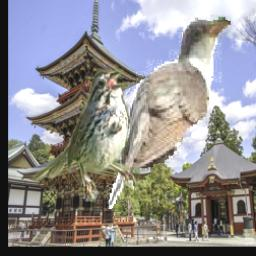Cuckoo: (107, 15, 233, 209)
Sparrow: (33, 68, 140, 202)
